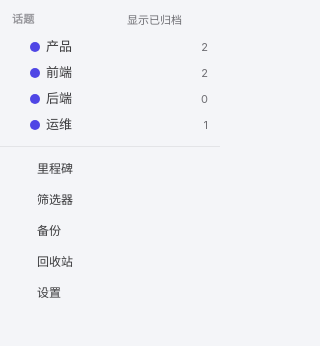
Test: 右键菜单 › 重命名写回 store 并立即反映在树上
Right-click the list item with test id "topic-row-p-fe" at {"x": 35, "y": 73}, box [8, 60, 212, 86]
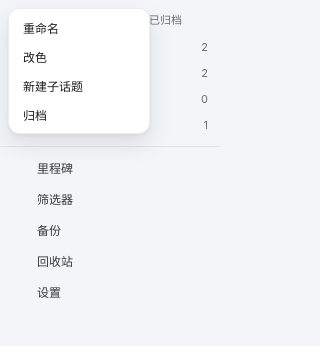
Click the menu item with test id "topic-menu-rename" at {"x": 79, "y": 28}, box [13, 13, 145, 42]
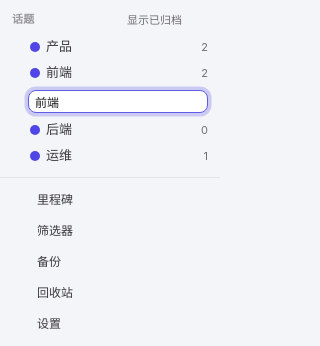
Now the field with test id "topic-name-input" holds "前端"
Replace the text in the field with test id "topic-name-input" with "前端 Web" at {"x": 118, "y": 102}, box [28, 90, 208, 113]
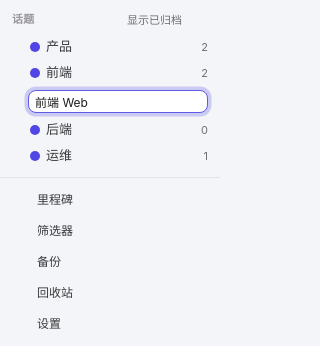
Press Enter in the field with test id "topic-name-input", box [28, 90, 208, 113]
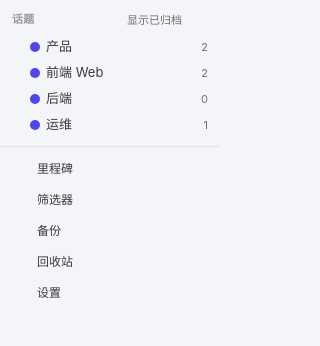
Now the text "前端 Web" is shown, box [46, 64, 103, 80]
Now the field with test id "topic-name-input" is gone
